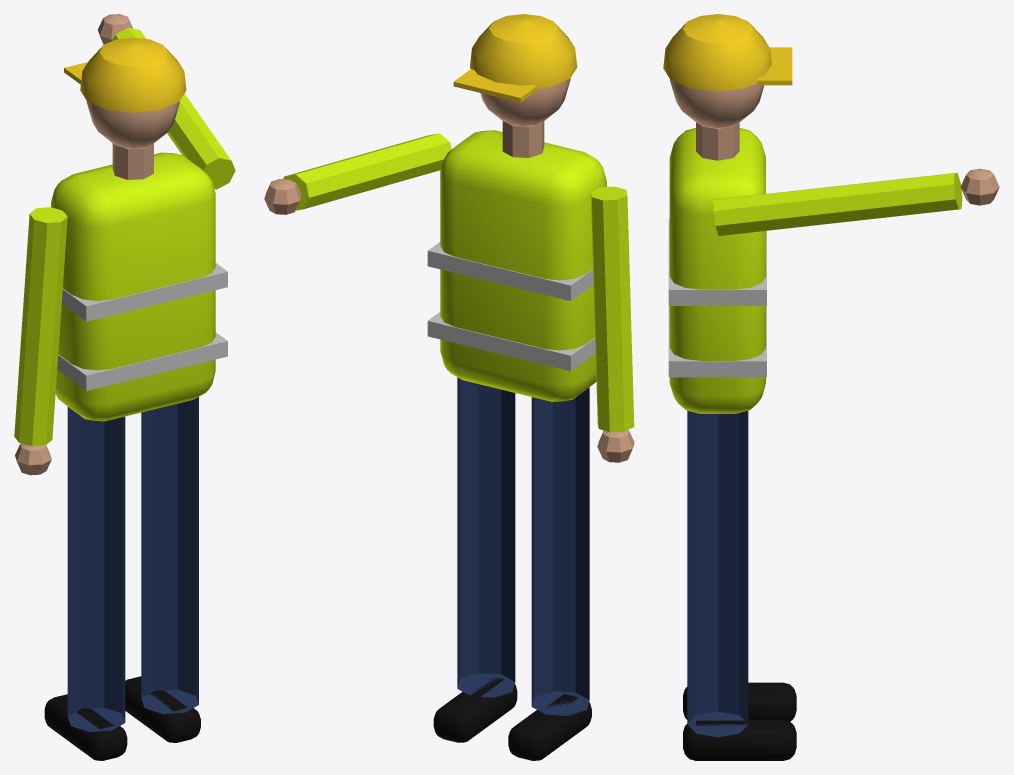
Rendered from people.crew.banksman.glb.
3 renders of one model, left to right at view 1: azimuth 30°, elevation 25°; view 2: azimuth 150°, elevation 25°; view 3: azimuth 270°, elevation 25°, orthographic. The views are drawn at different scales.
Parts seen in each view (by area): view 1: main__hivis_yellow, main__denim, main__plastic_yellow, main__steel_stainless, main__skin, main__plastic_black; view 2: main__hivis_yellow, main__denim, main__plastic_yellow, main__steel_stainless, main__plastic_black, main__skin; view 3: main__hivis_yellow, main__denim, main__plastic_yellow, main__plastic_black, main__skin, main__steel_stainless.
Boxes of the visible parts, <box> form: main__hivis_yellow: <box>14,27,235,446</box>; main__denim: <box>67,397,198,731</box>; main__plastic_yellow: <box>64,37,186,112</box>; main__steel_stainless: <box>57,263,227,390</box>; main__skin: <box>15,14,179,475</box>; main__plastic_black: <box>44,676,200,760</box>; main__hivis_yellow: <box>283,130,634,432</box>; main__denim: <box>457,377,589,715</box>; main__plastic_yellow: <box>453,14,577,102</box>; main__steel_stainless: <box>427,242,595,371</box>; main__plastic_black: <box>433,677,591,760</box>; main__skin: <box>264,78,634,462</box>; main__hivis_yellow: <box>669,128,962,413</box>; main__denim: <box>687,410,748,737</box>; main__plastic_yellow: <box>663,14,792,91</box>; main__plastic_black: <box>683,682,796,760</box>; main__skin: <box>670,79,999,205</box>; main__steel_stainless: <box>668,219,766,377</box>.
Bounding box in the file's own units: 0.65 × 1.81 × 0.77.
